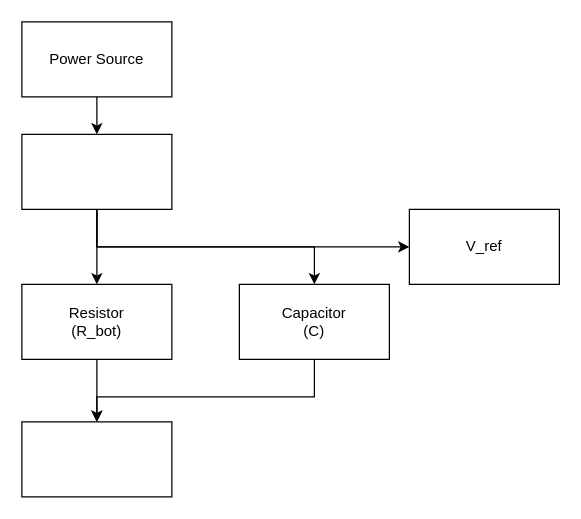
Some shapes in this 581 by 519 pixel diagram are drawn without their labels. The centre of each missing label's shape, as x and y in pixels:
"GND" belongs at pixel 96 459.
"Resistor (R_top)" belongs at pixel 96 171.
